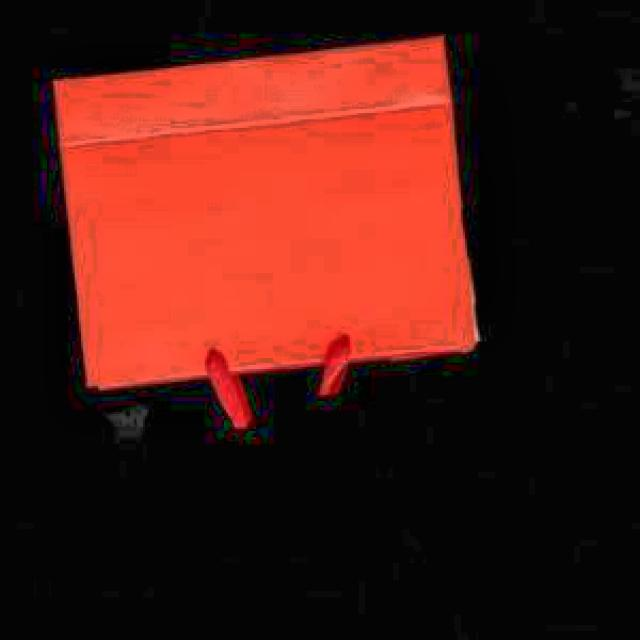Paper-bag: (34, 32, 518, 440)
